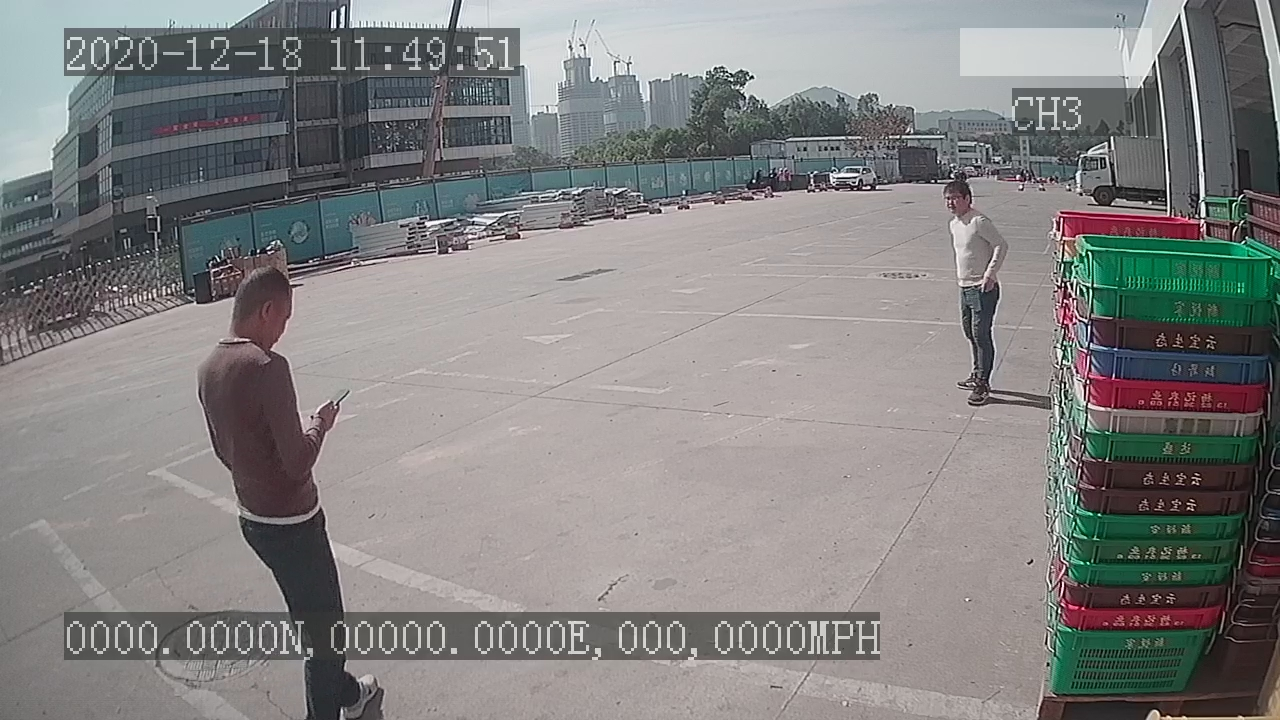person: (933, 177, 1013, 411)
